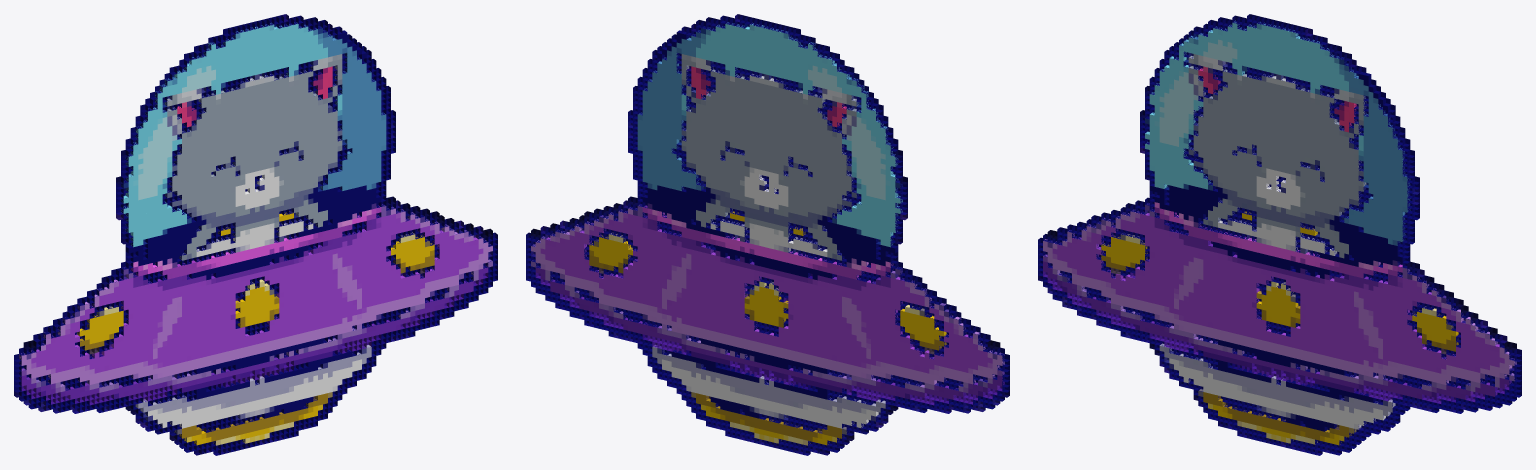
The picture shows the model from 3 angles, left to right: view 1: azimuth 30°, elevation 25°; view 2: azimuth 150°, elevation 25°; view 3: azimuth 330°, elevation 25°; orthographic projection.
Size of the model in its own units: 10.1 by 8.47 by 0.102.
